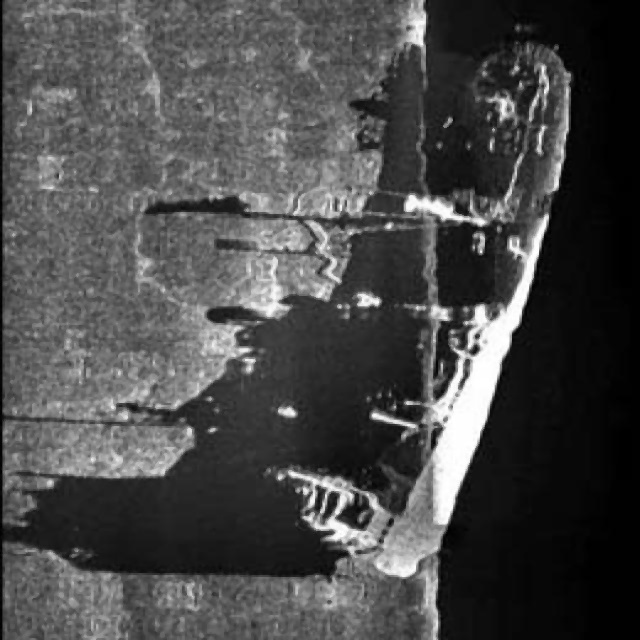Ship: (217, 14, 582, 587)
